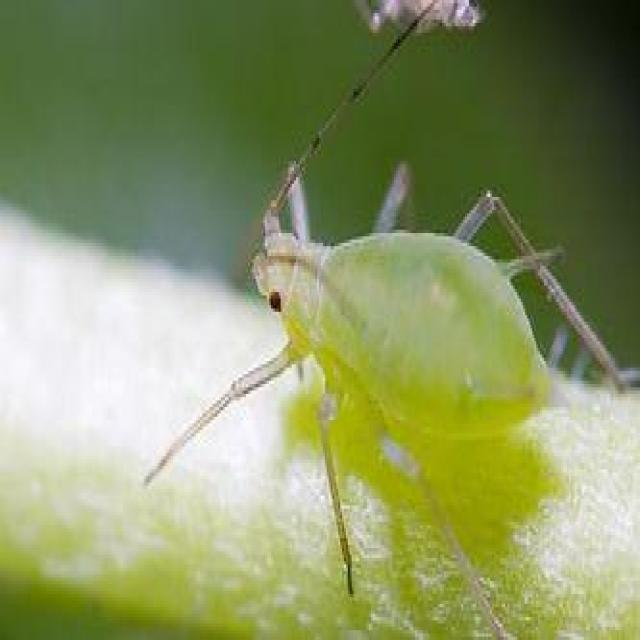Aphids: (169, 8, 632, 608)
